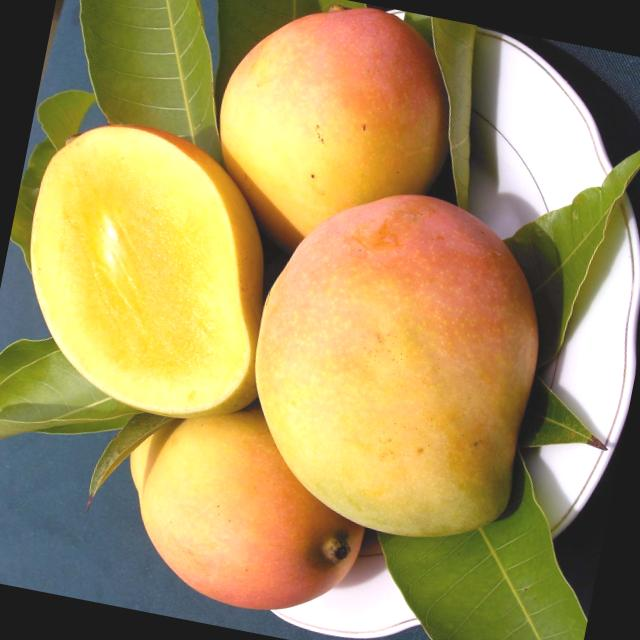mango: (216, 163, 568, 568), (196, 0, 470, 274), (108, 384, 384, 628)
